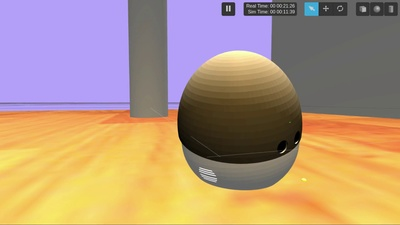mira_robot: (178, 48, 303, 191)
